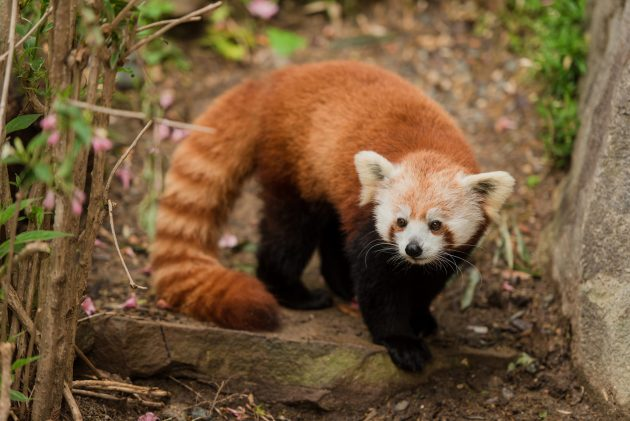red_panda: (146, 54, 509, 369)
